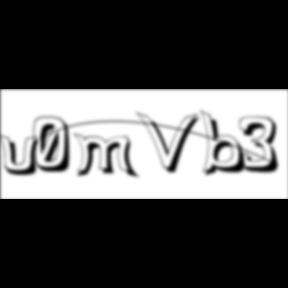0: (34, 115, 78, 174)
3: (240, 116, 286, 176)
V: (136, 110, 204, 176)
b: (199, 109, 252, 179)
m: (73, 132, 141, 181)
u: (0, 132, 46, 178)
